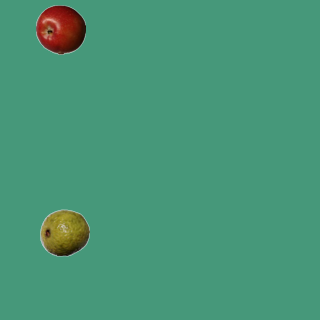Apple Braeburn: (35, 4, 85, 54)
Guava: (39, 207, 89, 257)
